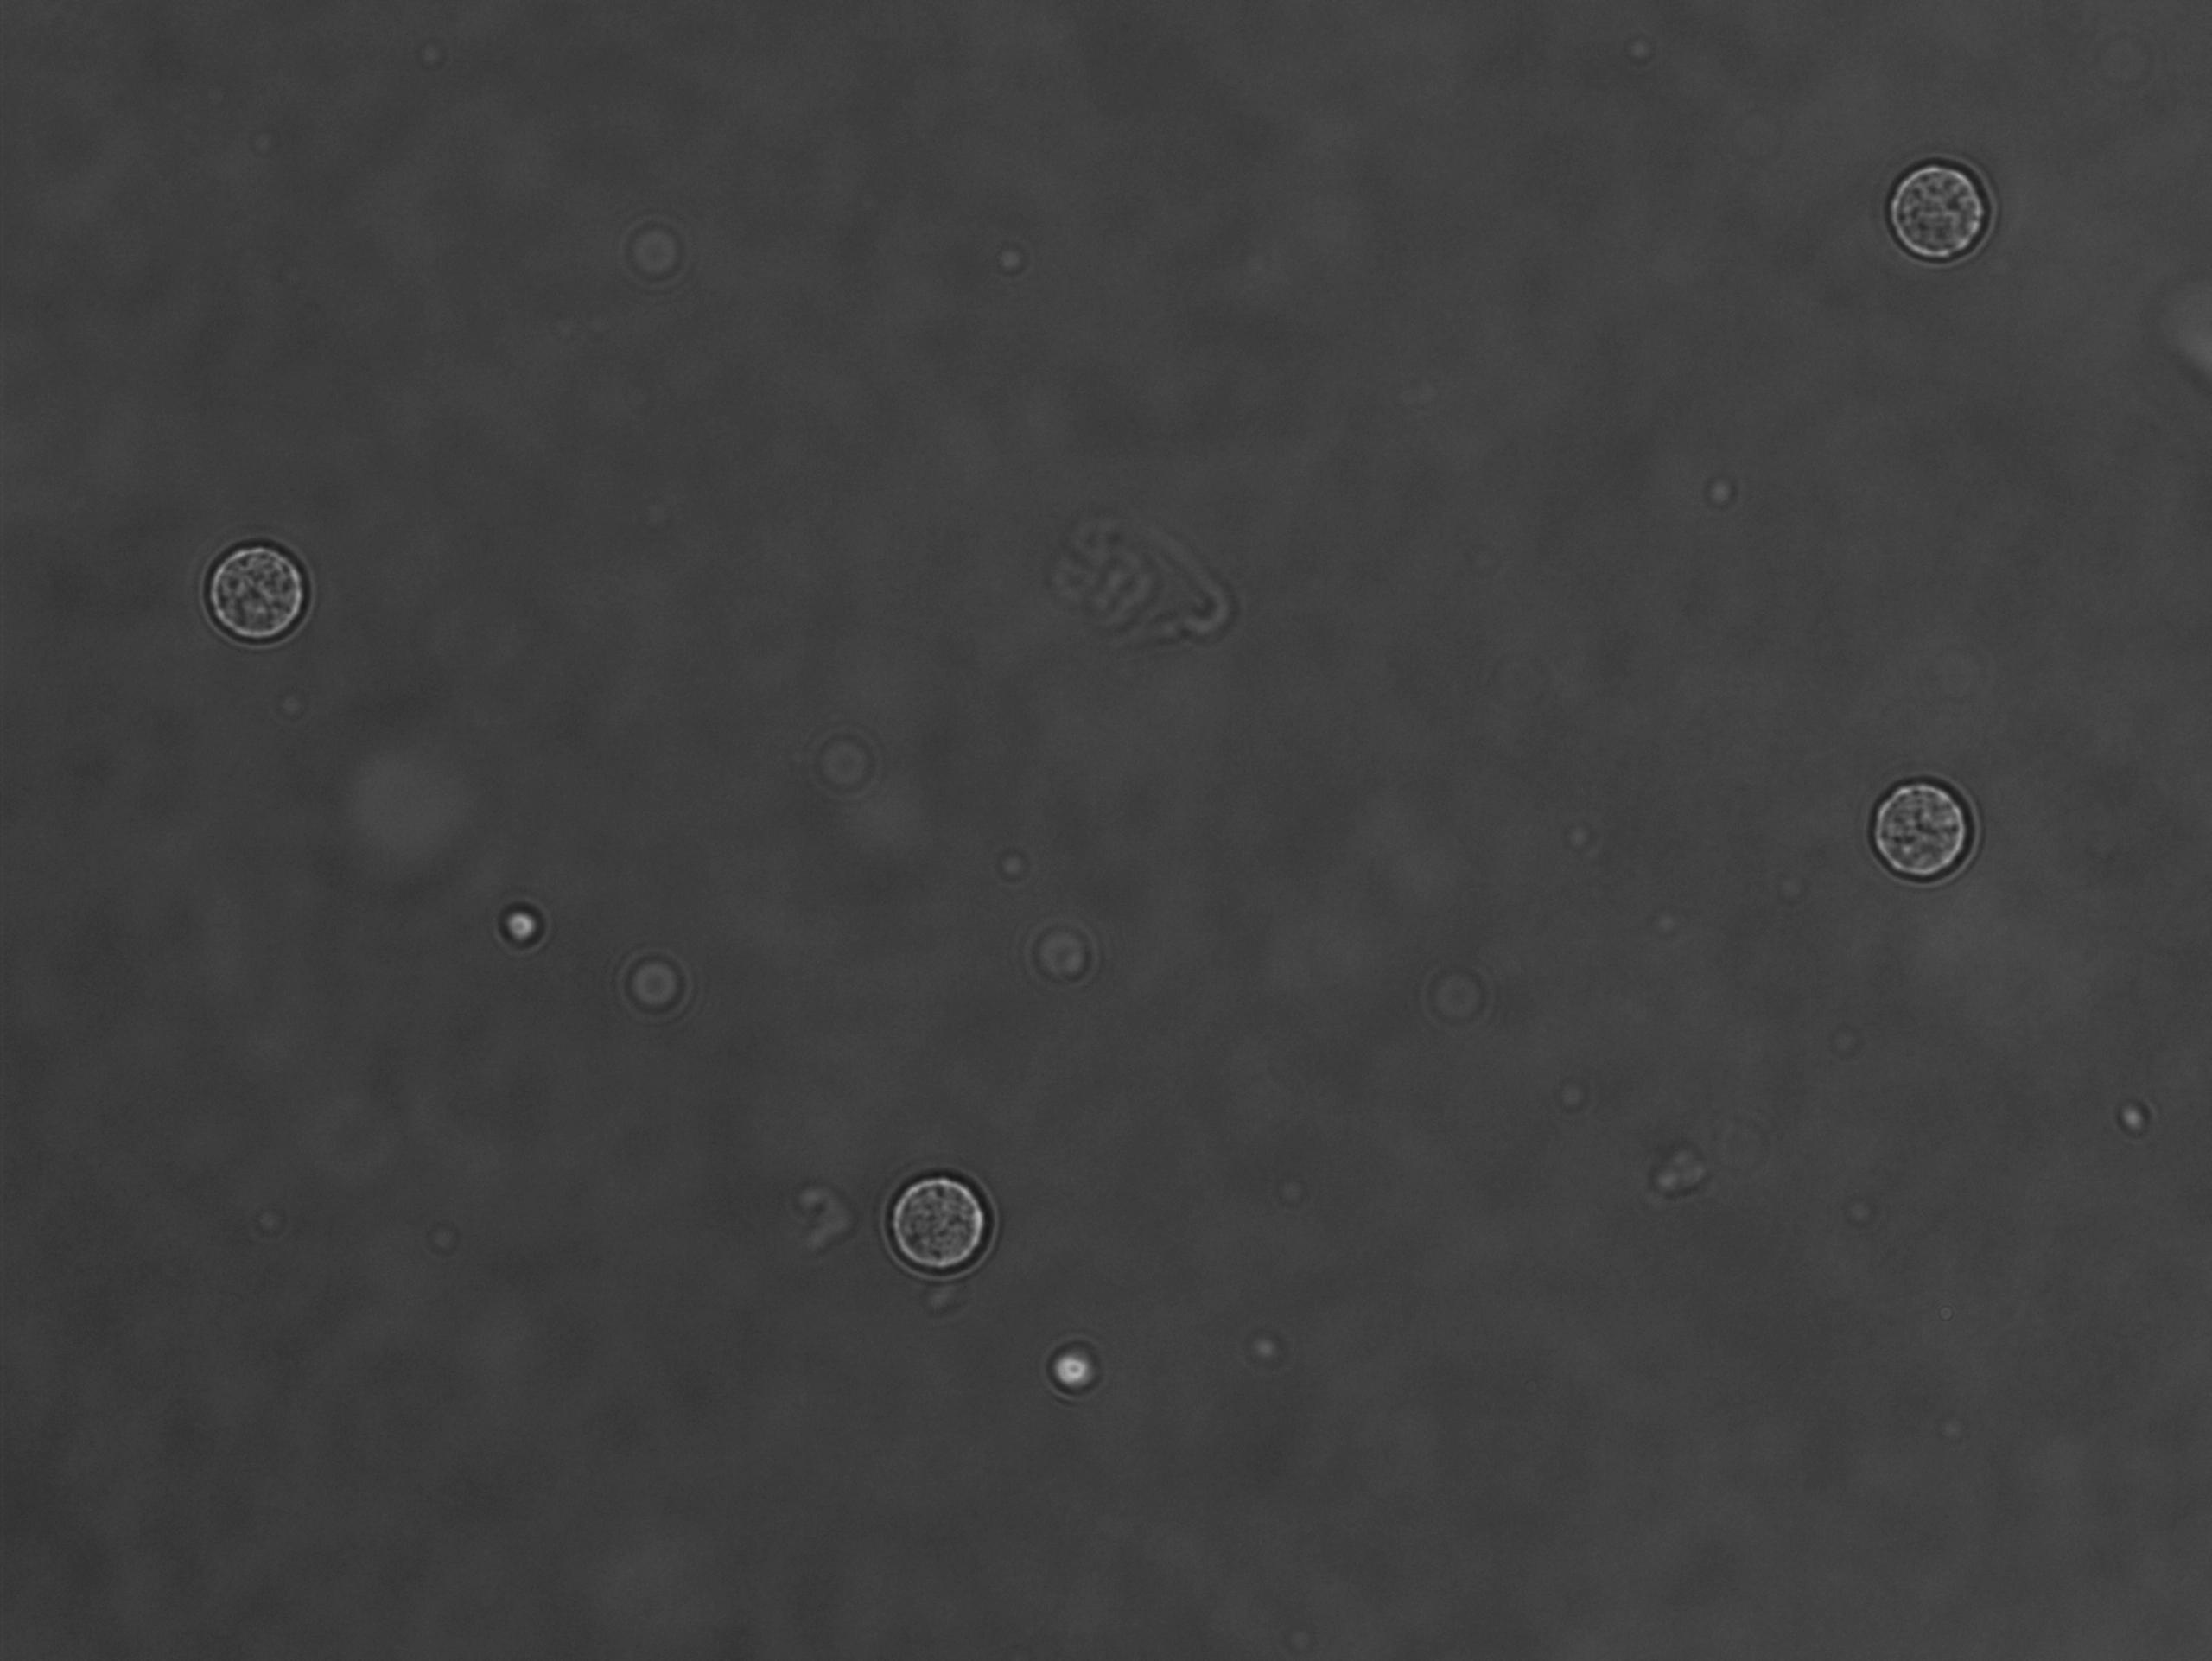depth:0: (1847, 745, 2006, 902), (1851, 147, 2022, 277), (187, 523, 333, 668), (872, 1145, 1008, 1277)
